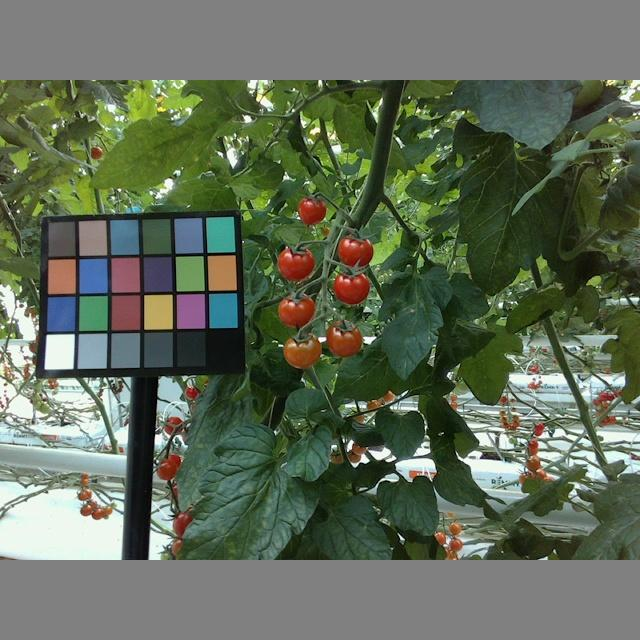pink: (281, 335, 323, 370), (327, 319, 361, 358)
red: (331, 272, 371, 307), (277, 244, 313, 279), (277, 293, 311, 329), (296, 197, 327, 226), (338, 238, 371, 264)
